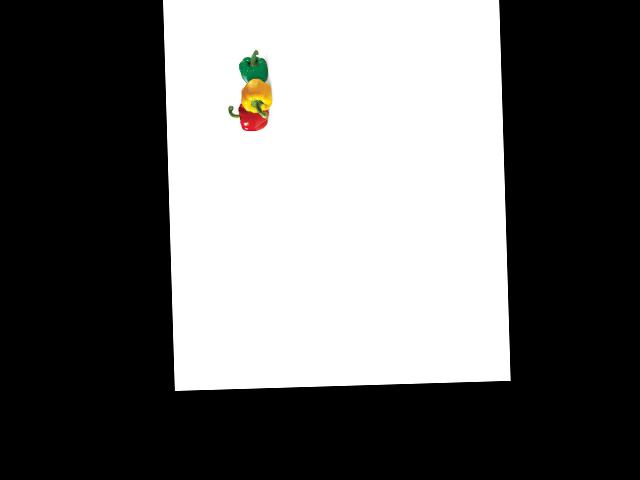bell_pepper: (236, 51, 271, 87)
